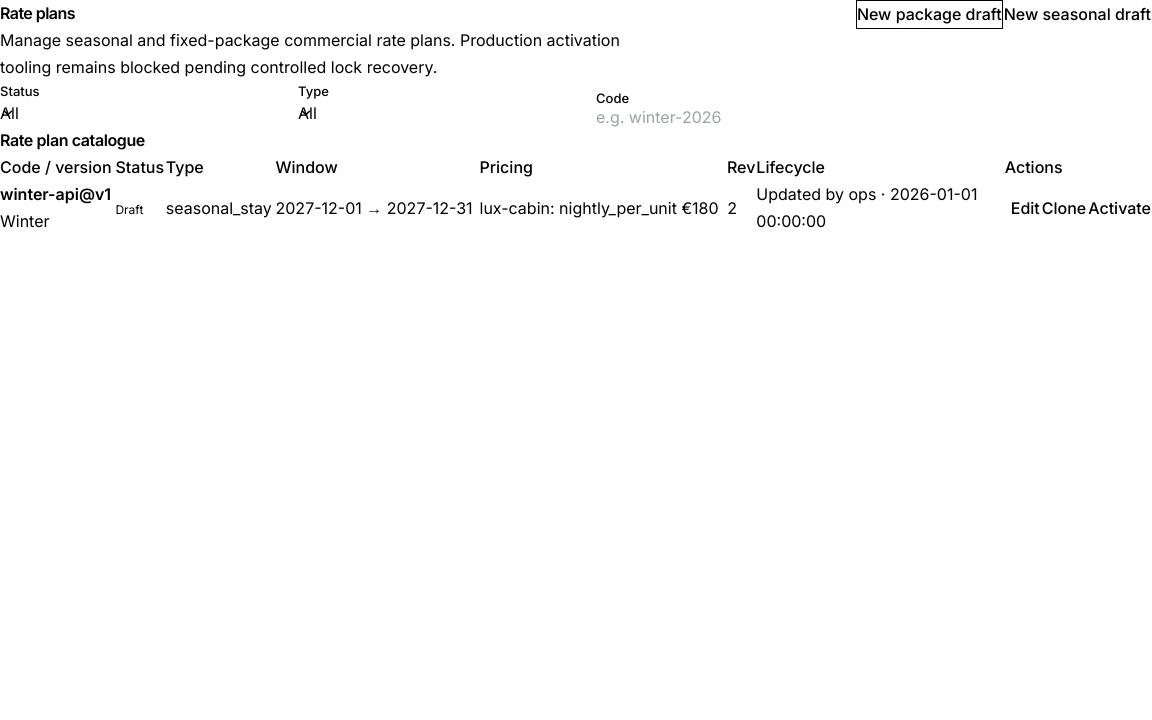
Test case: OpsRatePlans › surfaces overlap and busy errors distinctly with fixed client text
Check: the text "winter-api@v1" is shown, box [0, 181, 115, 208]
Click the button "Activate": coordinates (1120, 208) [1087, 194, 1151, 223]
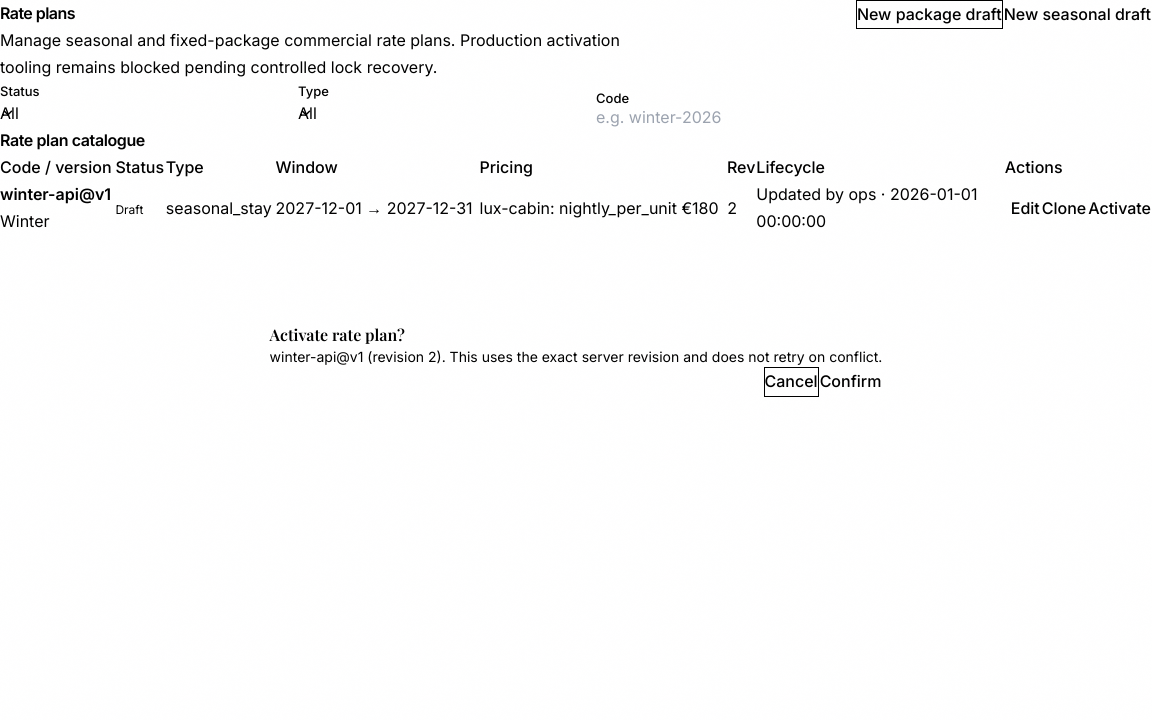
Click the button "Confirm": coordinates (850, 382) [819, 367, 882, 397]
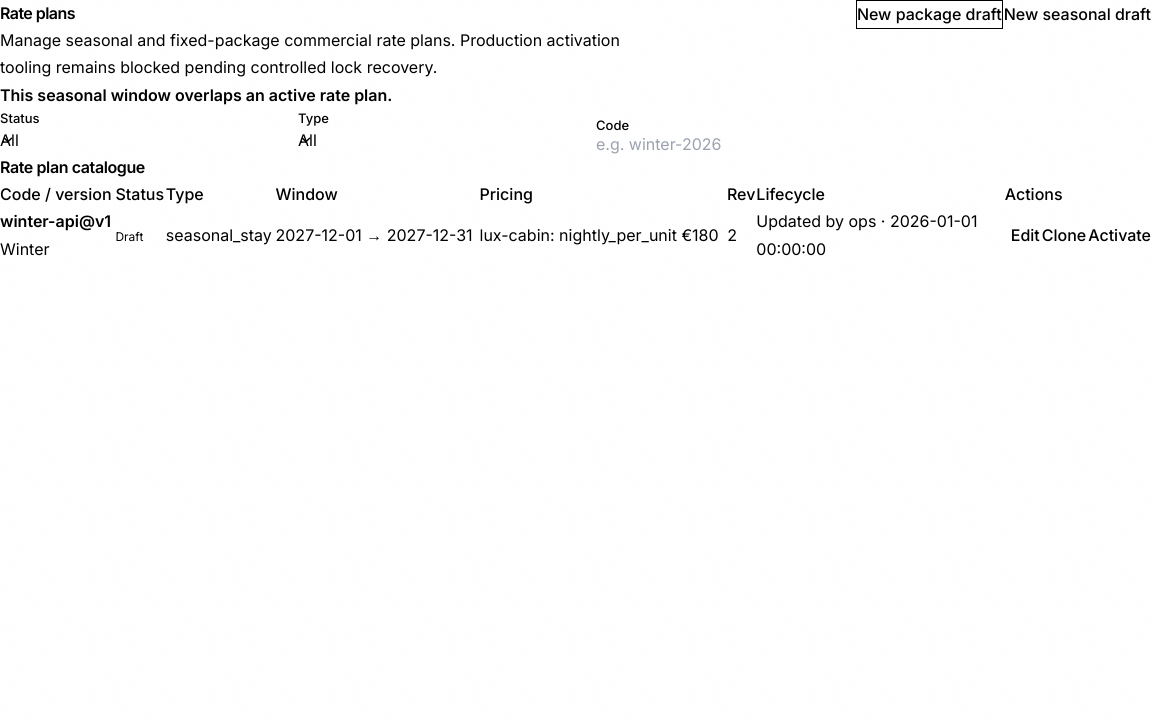
Check: the message with test id "rate-plans-banner" shows "overlaps an active rate plan", box [0, 85, 392, 105]
Click the button "Activate": coordinates (1120, 236) [1087, 221, 1151, 250]
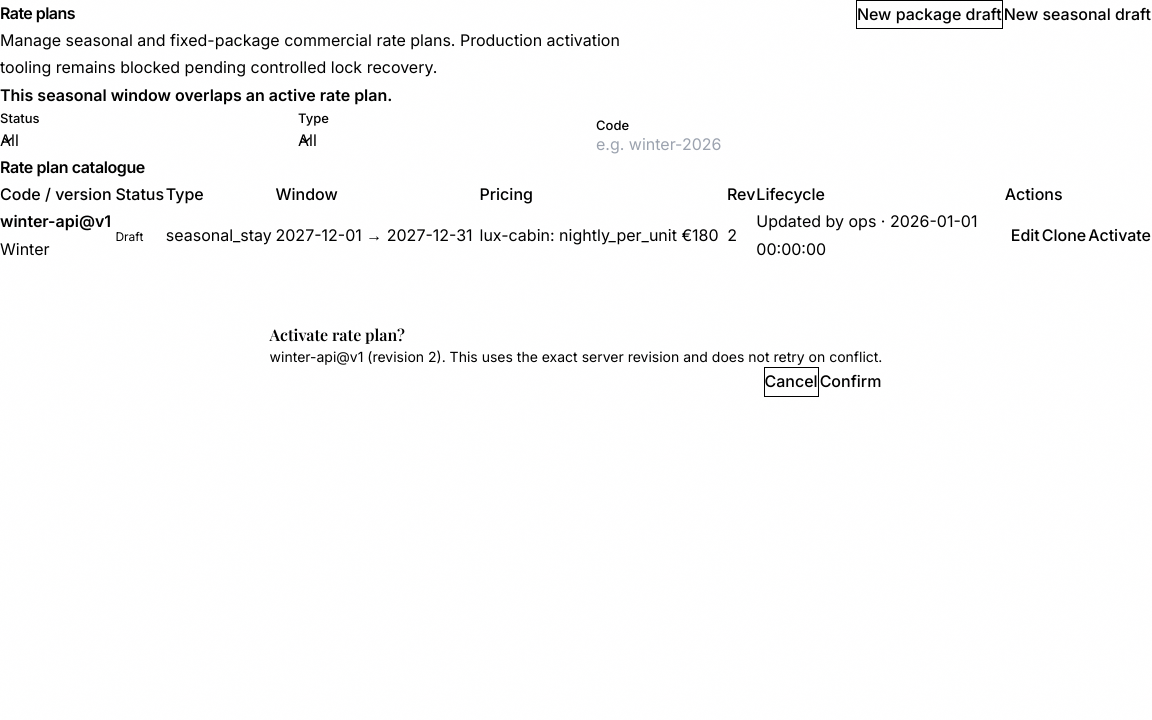
Click the button "Confirm": coordinates (850, 382) [819, 367, 882, 397]
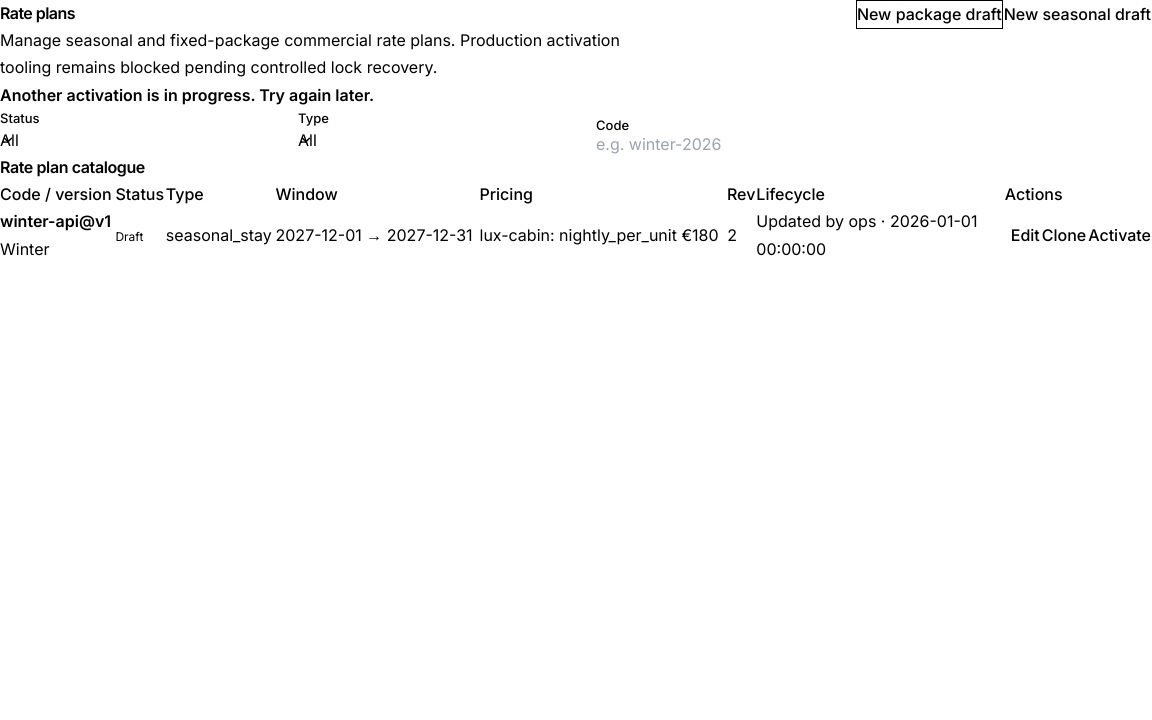
Check: the message with test id "rate-plans-banner" shows "Another activation is in progress", box [0, 85, 374, 105]
